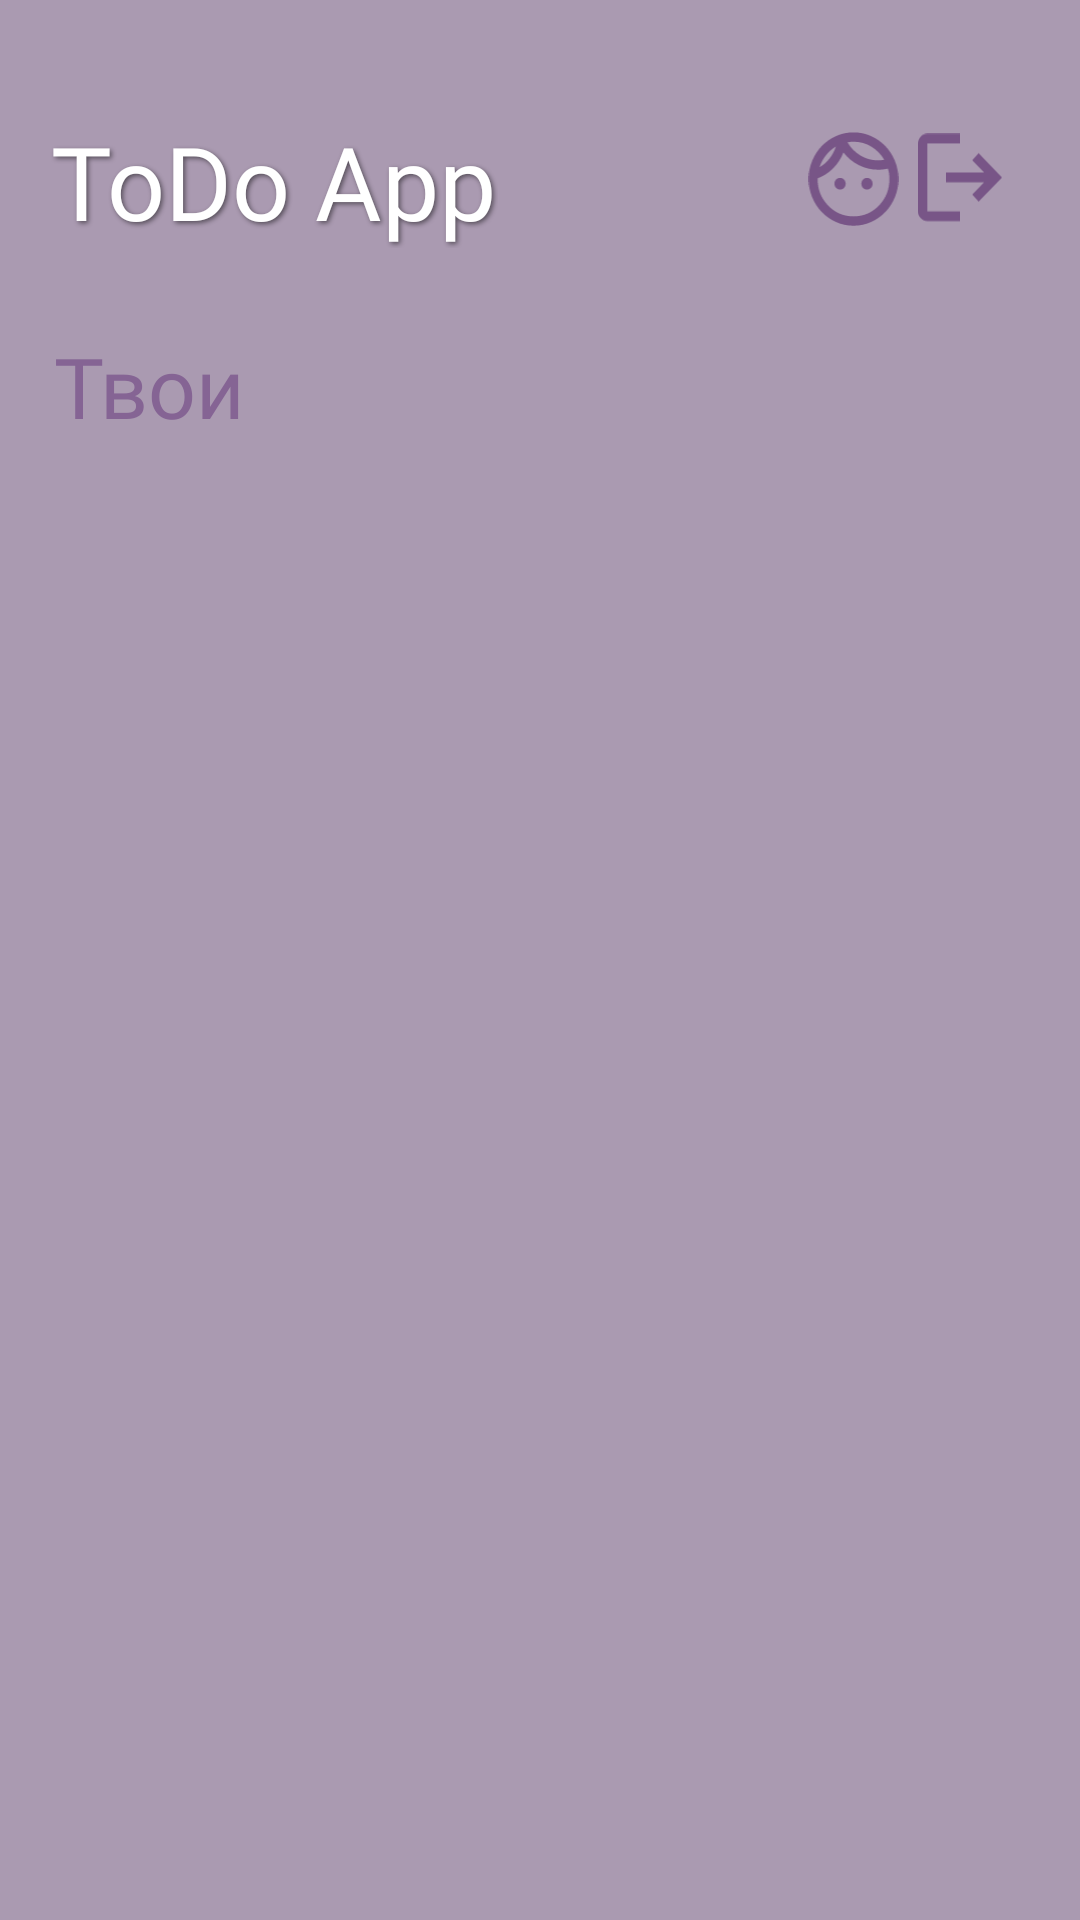

Screen size 1080*1920. Icon name, then its box in pixels as (left=x1, top=y1, right=x2, bottom=y2):
person: (left=808, top=132, right=899, bottom=226)
